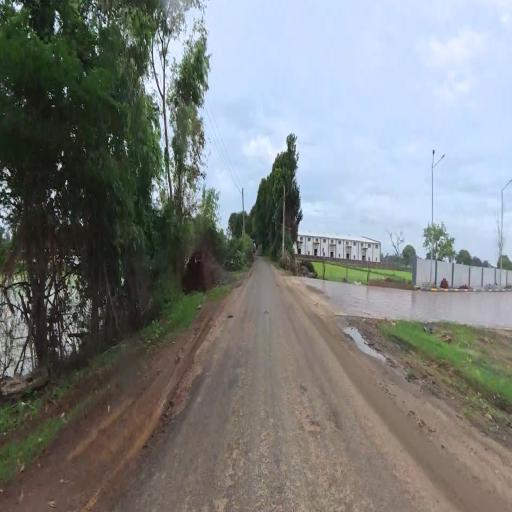edge_damage: (140, 339, 206, 464)
